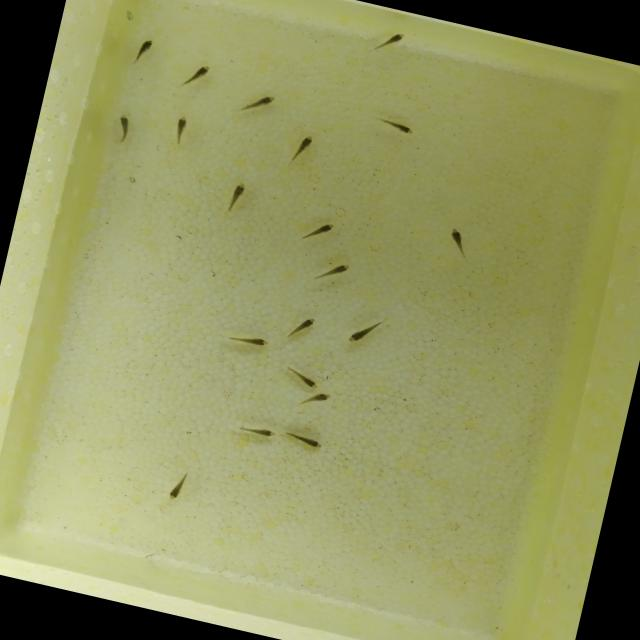fingerling: (304, 253, 358, 293), (362, 23, 411, 64), (340, 310, 387, 351), (368, 109, 422, 142), (290, 213, 338, 250), (272, 360, 328, 390), (438, 224, 477, 263), (282, 307, 322, 345), (284, 128, 318, 170), (239, 86, 279, 120), (224, 327, 275, 353), (219, 177, 253, 216), (179, 57, 215, 92), (125, 32, 156, 72), (234, 418, 282, 442), (297, 386, 337, 414), (165, 466, 194, 504), (109, 107, 137, 144), (284, 429, 329, 452), (166, 111, 191, 149)
